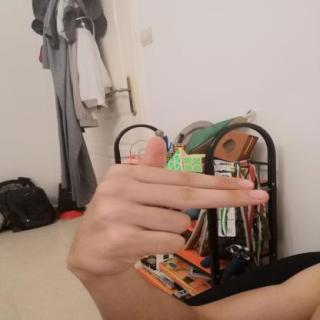GHAYN: (56, 129, 282, 287)
